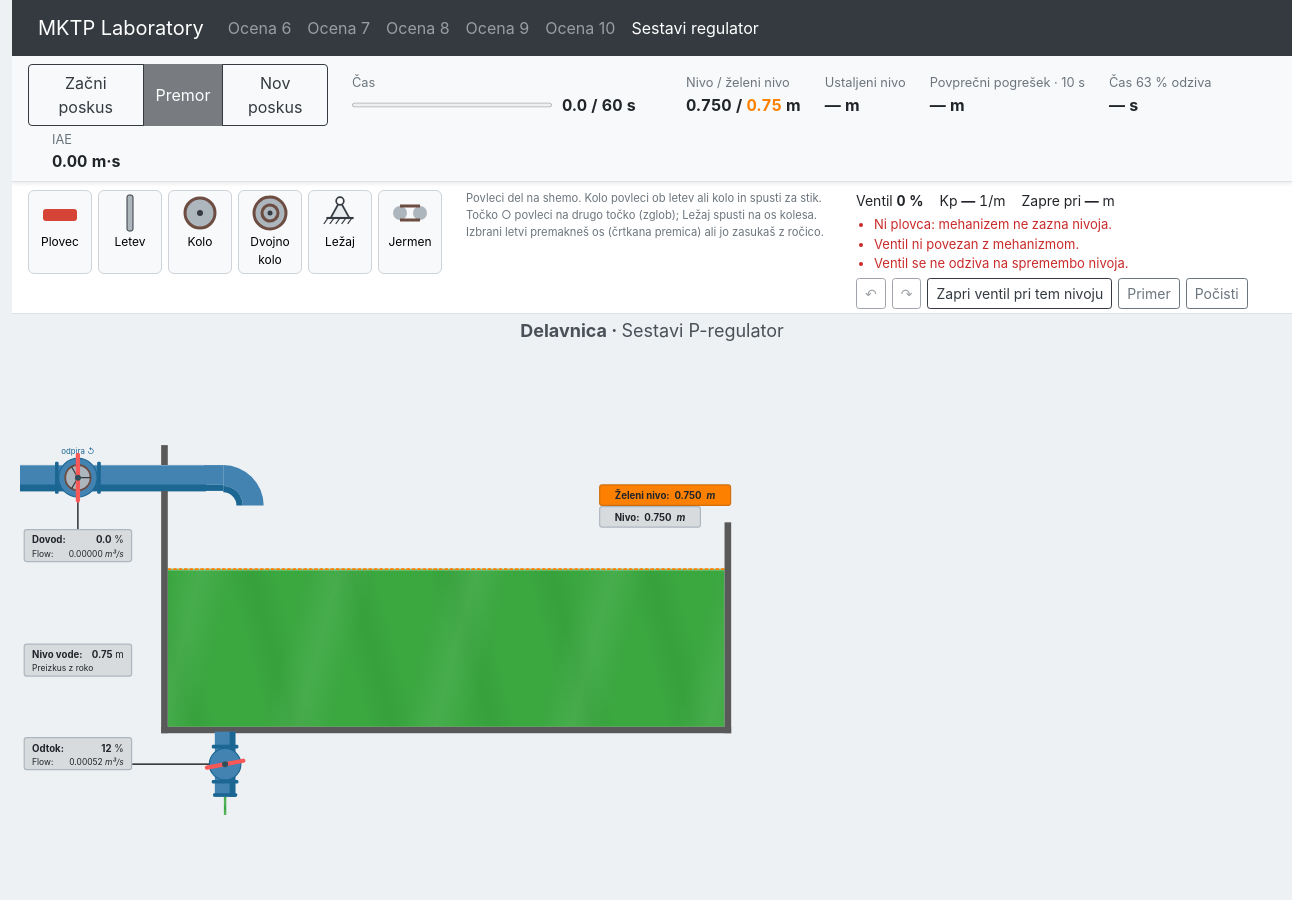
Test: mechanism changes can be undone and redone
Check: the button named "Razveljavi" is disabled, box [856, 278, 886, 309]
Click the button "Primer". click: coordinates (1149, 293)
box: [1118, 278, 1180, 309]
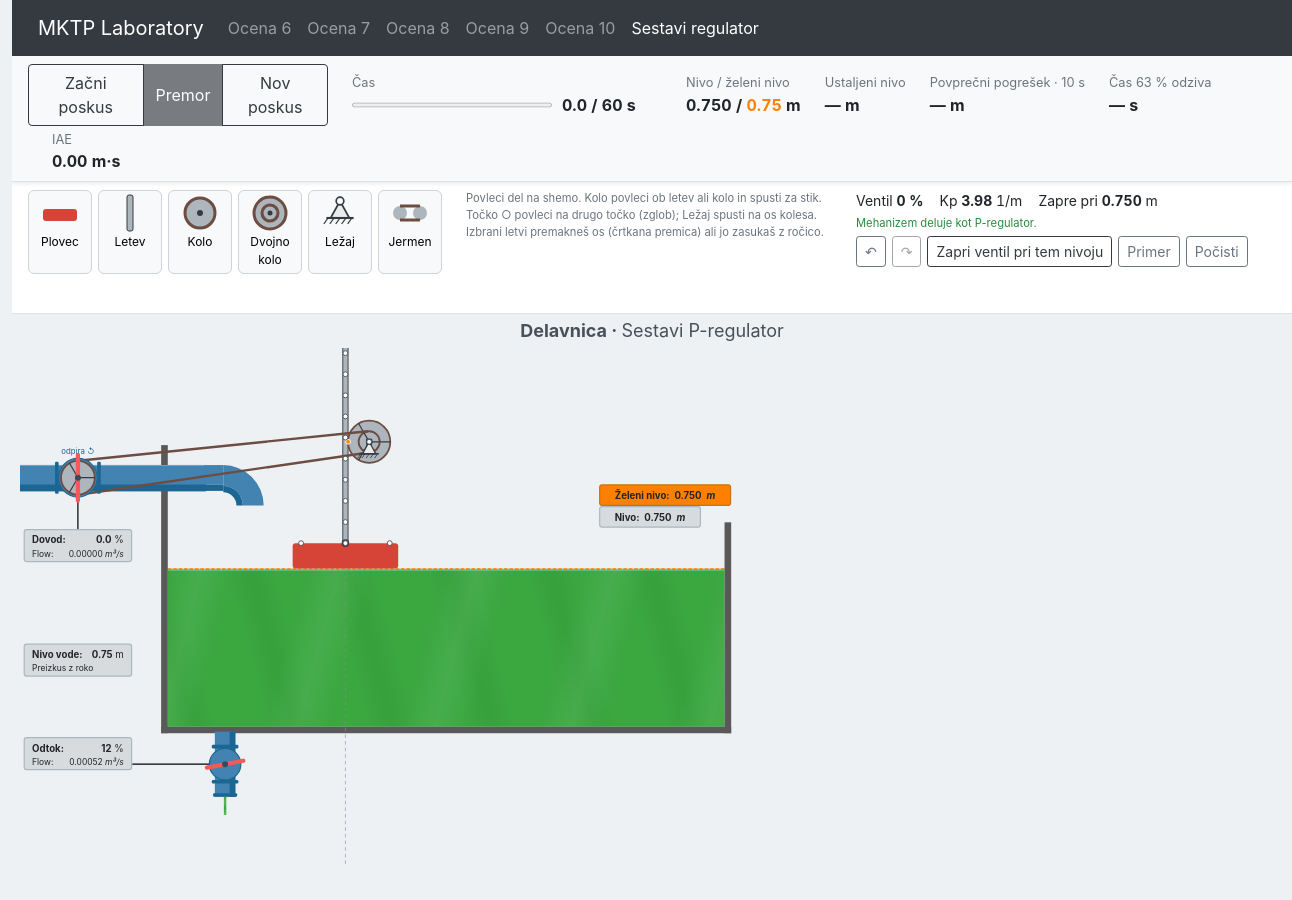
Check: the element named "Delovanje mehanizma" shows "Kp 3.98", box [856, 190, 1276, 267]
Click the button named "Razveljavi". click: coordinates (871, 252)
box: [856, 236, 886, 267]
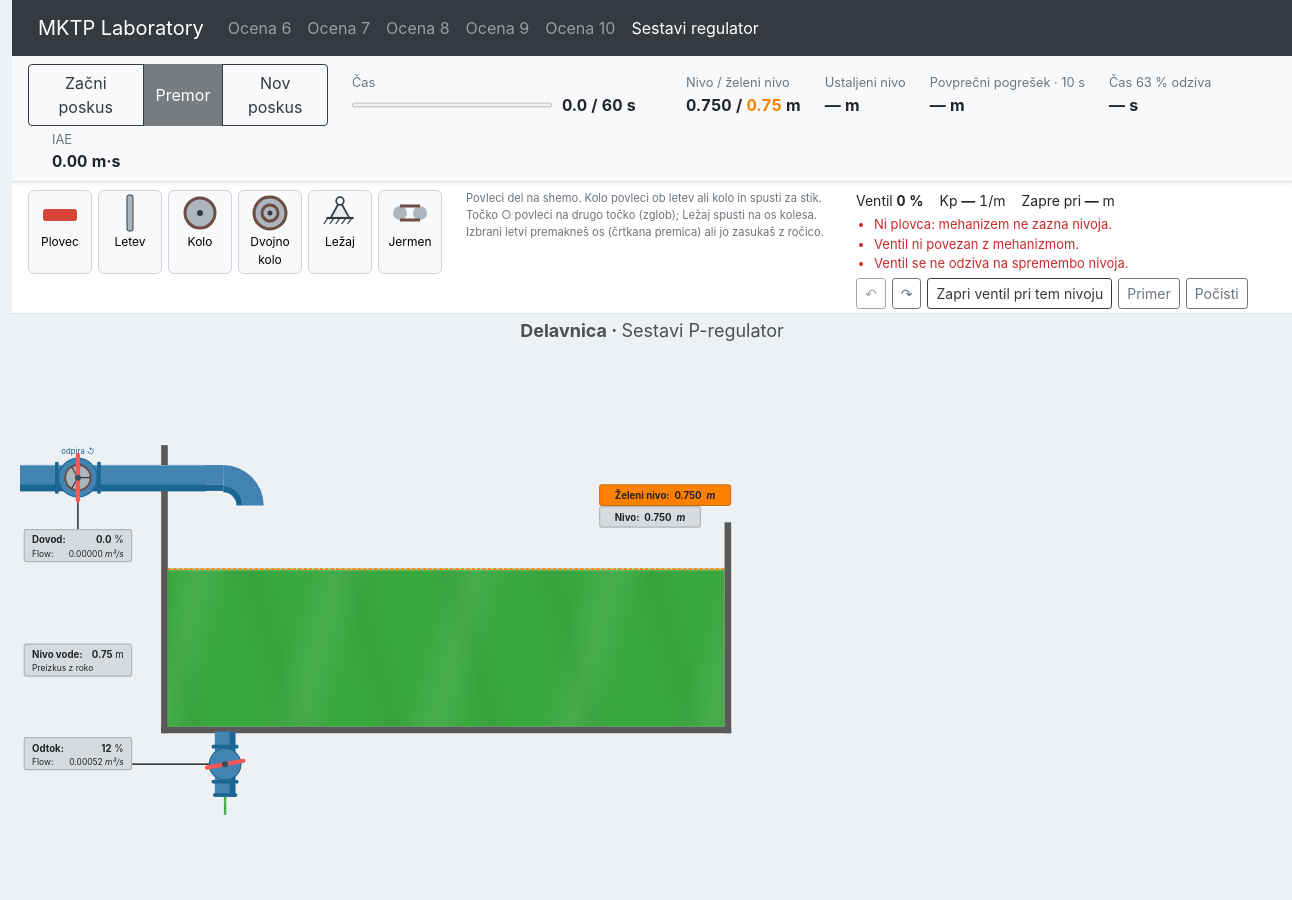
Check: the element named "Delovanje mehanizma" shows "Kp —", box [856, 190, 1276, 309]
Check: the button named "Razveljavi" is disabled, box [856, 278, 886, 309]
Press y
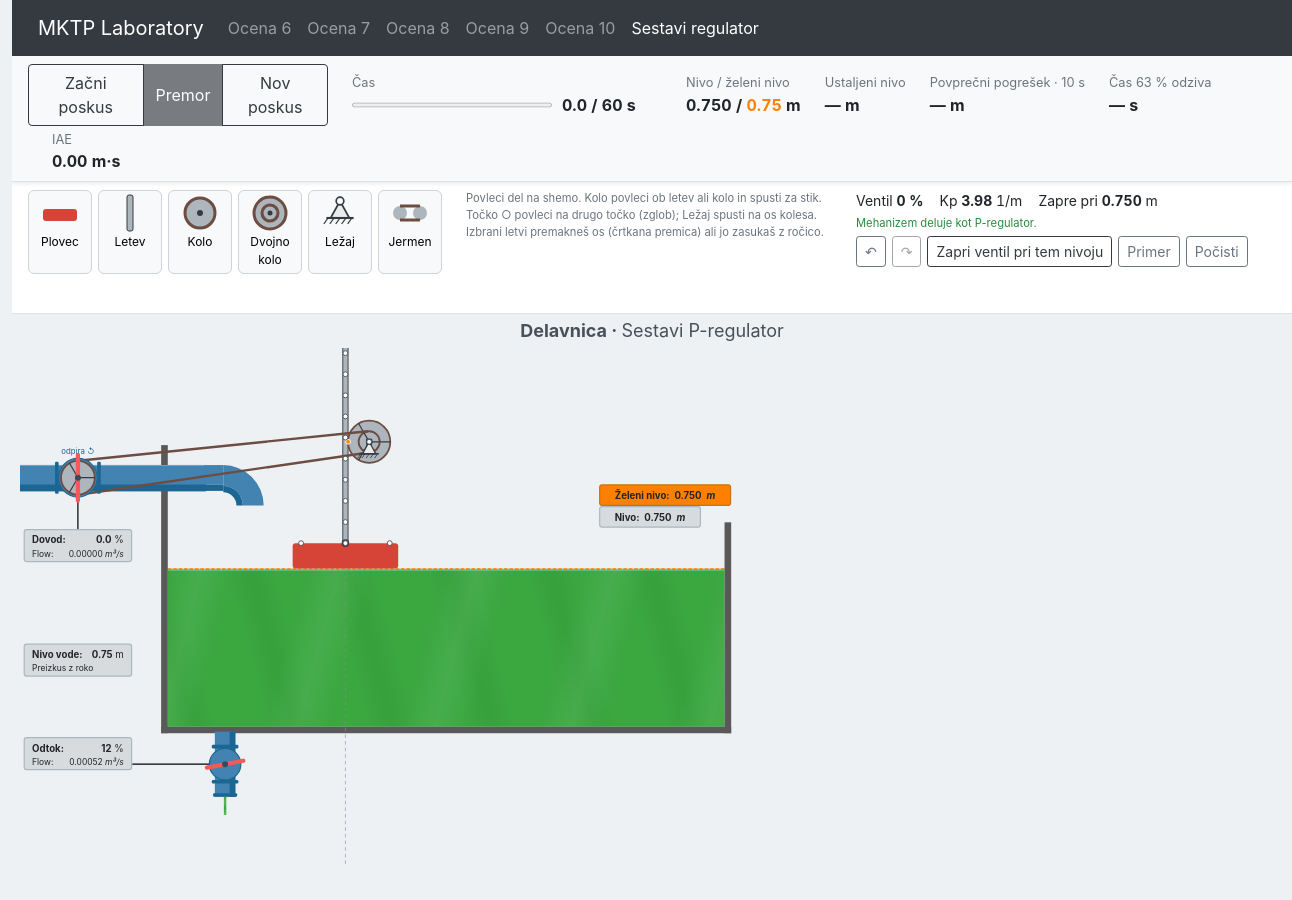
Check: the element named "Delovanje mehanizma" shows "Kp 3.98", box [856, 190, 1276, 267]
Press z
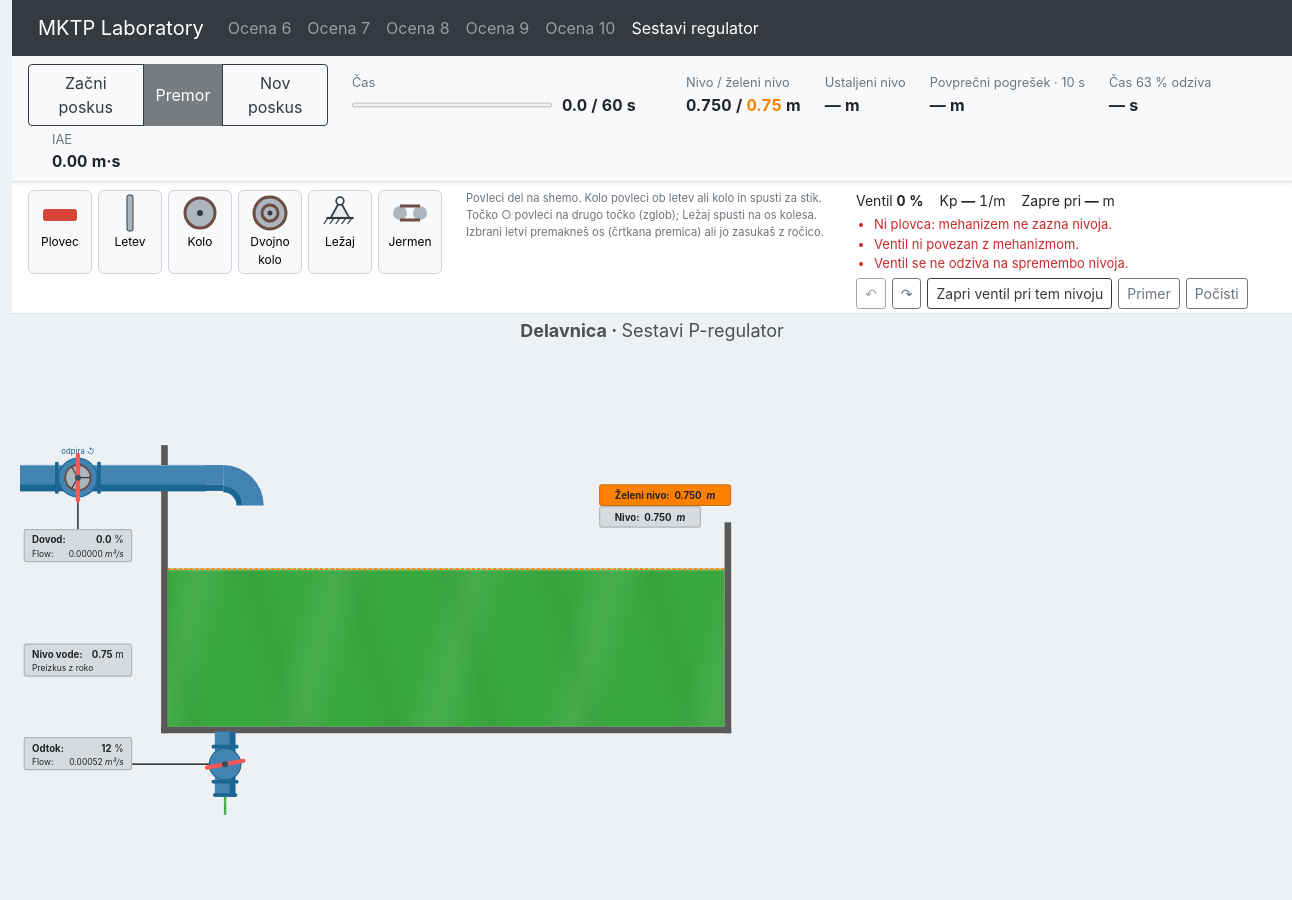
Check: the element named "Delovanje mehanizma" shows "Kp —", box [856, 190, 1276, 309]
Click the button named "Ponovi". click: coordinates (907, 293)
box: [892, 278, 921, 309]
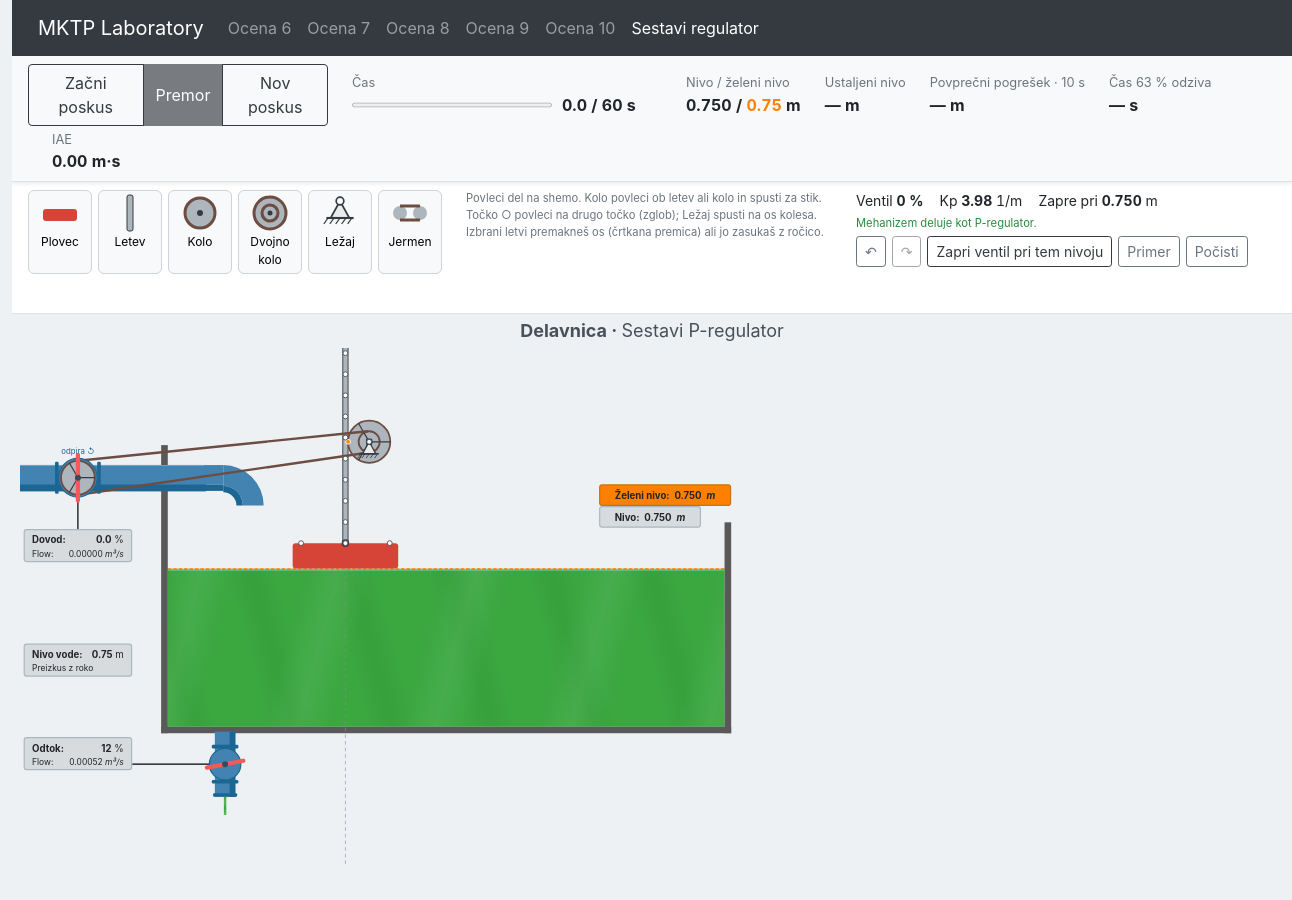
Check: the element named "Delovanje mehanizma" shows "Kp 3.98", box [856, 190, 1276, 267]
